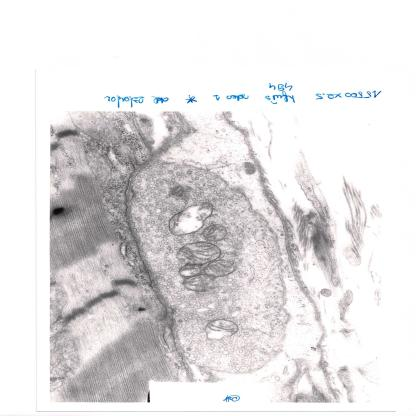mitochondria: (169, 202, 214, 236), (176, 242, 225, 266), (204, 319, 240, 341), (203, 260, 240, 276), (181, 275, 214, 292), (200, 224, 231, 242), (176, 264, 203, 276)
